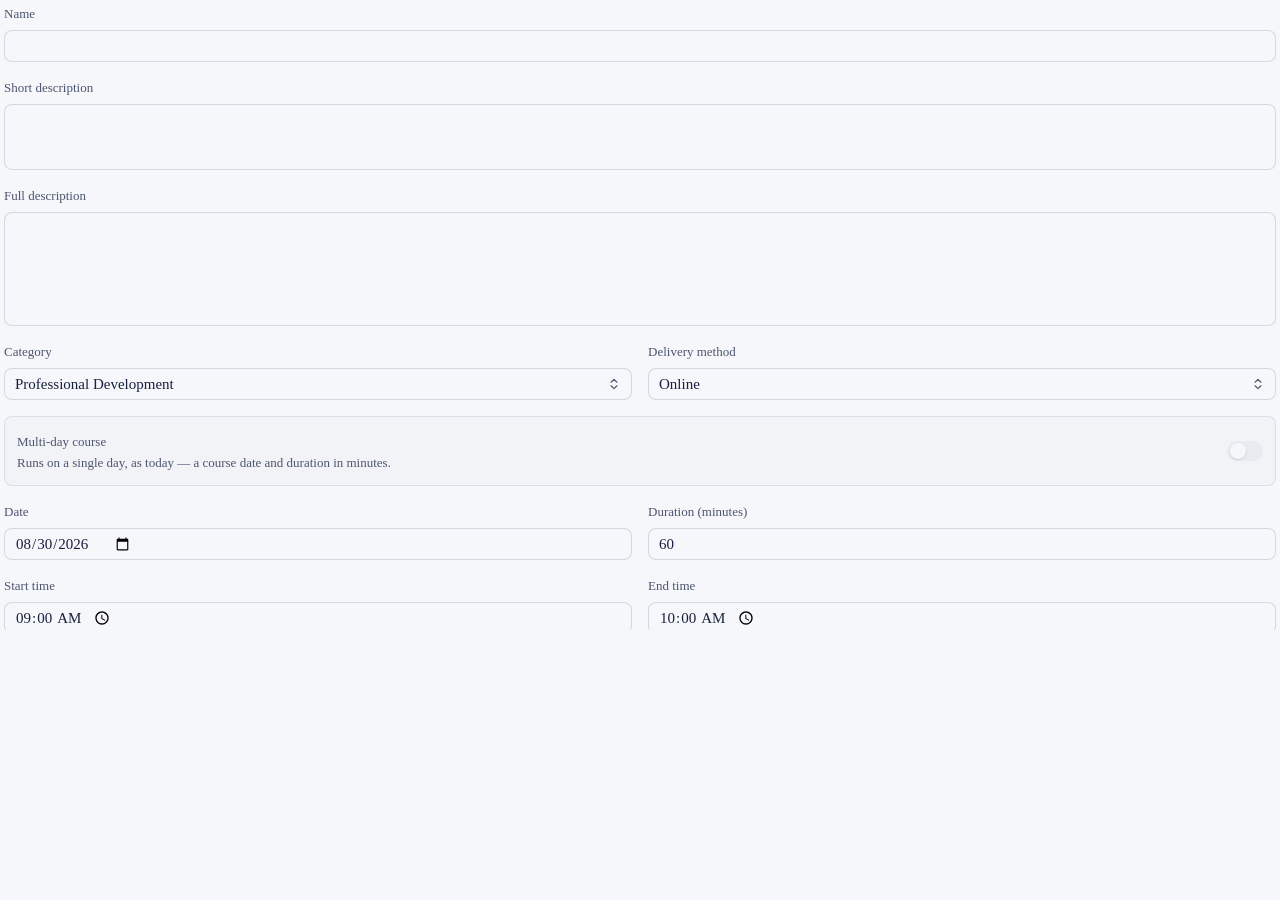
Scenario: CourseForm — multi-day session dates, typed digit by digit › can still add a fully-typed session date, same as a picker selection would
Click the switch named "Multi-day course". click: (1245, 451)
box: left=1227, top=441, right=1263, bottom=461
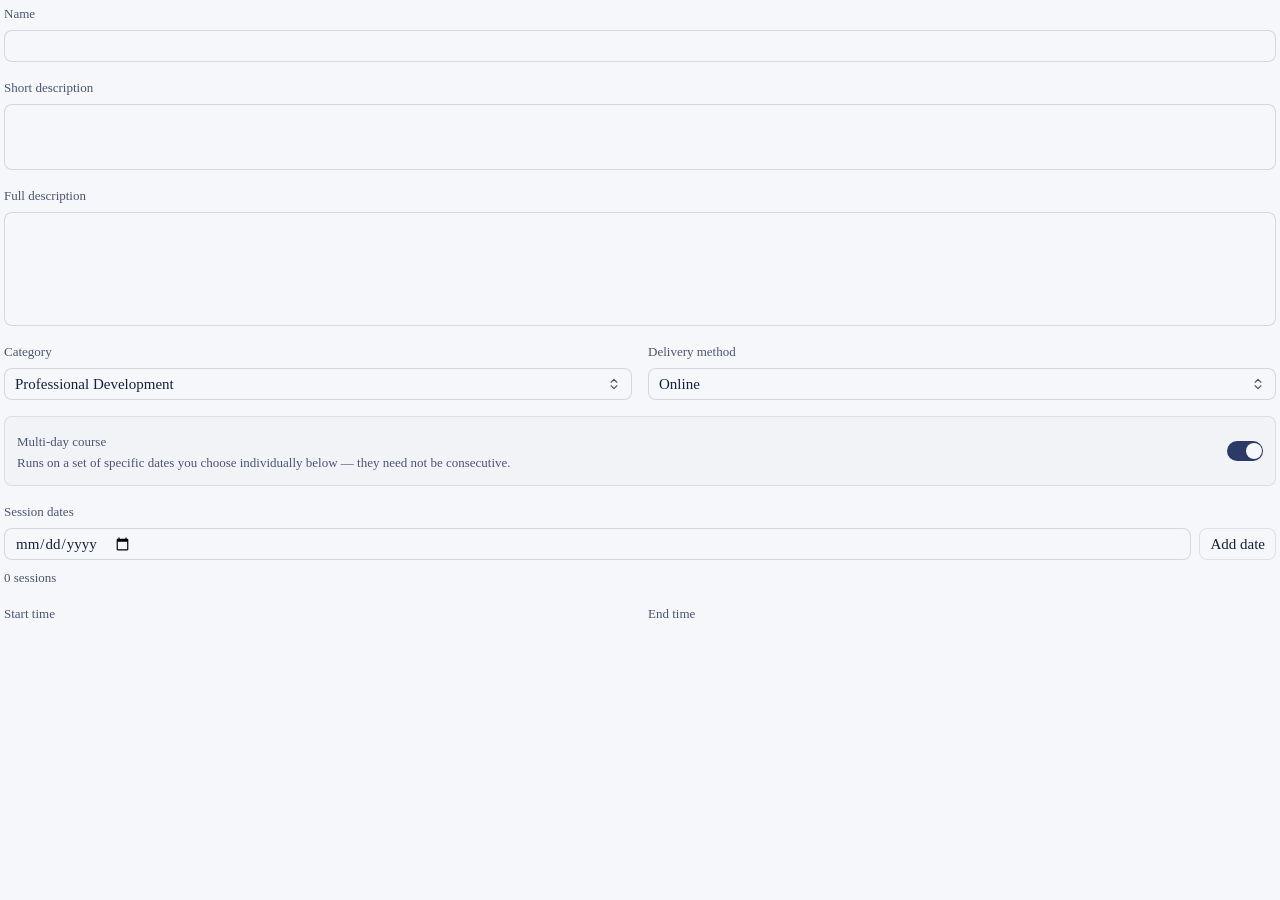
Type "2026-09-05" into the date field labelled "Session dates". click: (598, 544)
box: left=4, top=528, right=1191, bottom=560
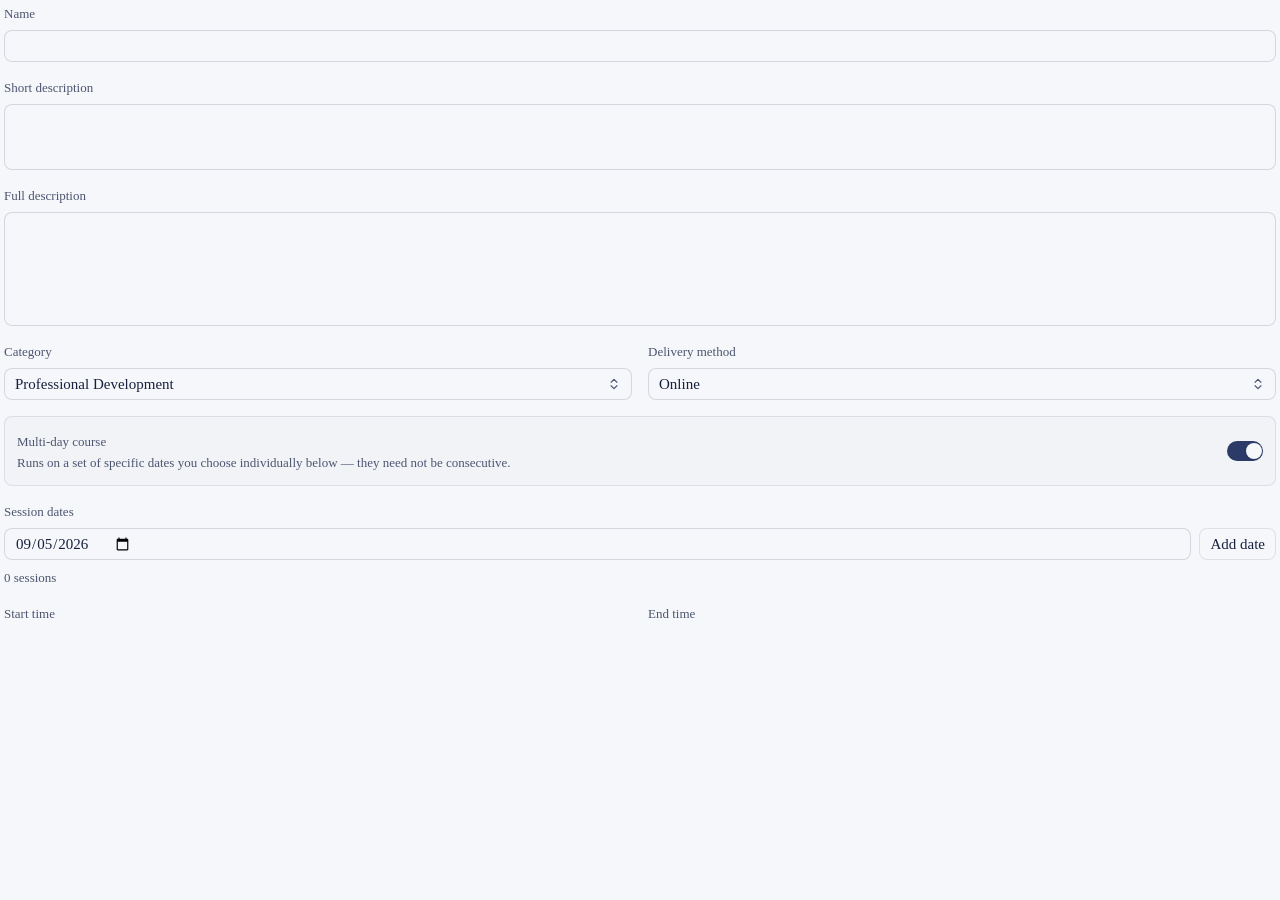
Click the button "Add date". click: (1238, 544)
box: left=1199, top=528, right=1276, bottom=560
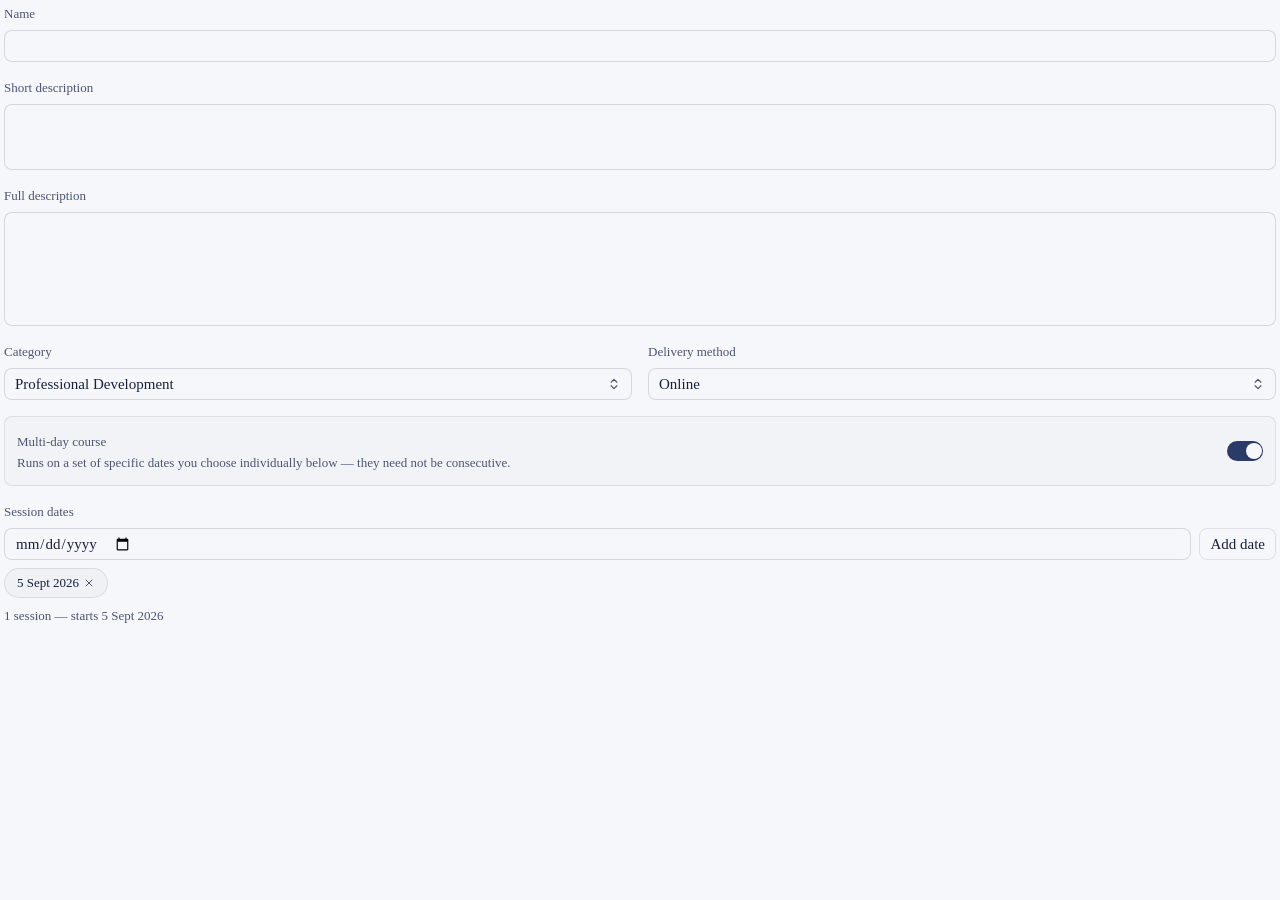
Result: the list item "5 Sept 2026" is shown at left=4, top=568, right=108, bottom=598
Result: the text "1 session — starts 5 Sept 2026" is shown at left=4, top=608, right=164, bottom=623
